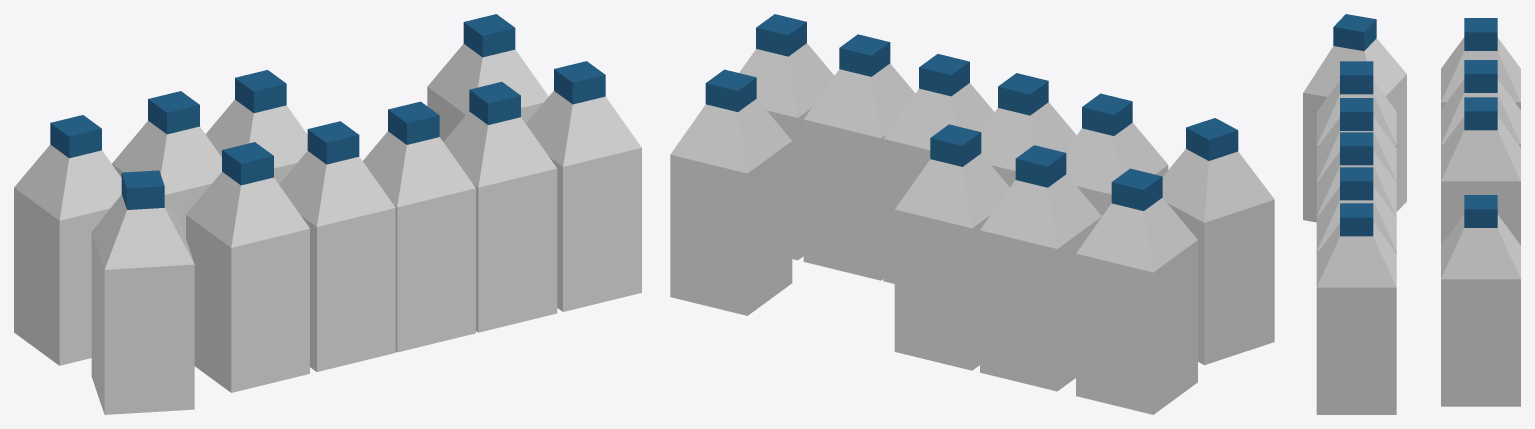
File: ShelfItem5.glb
The picture shows the model from 3 angles, left to right: view 1: azimuth 30°, elevation 25°; view 2: azimuth 150°, elevation 25°; view 3: azimuth 270°, elevation 25°; orthographic projection. The views are drawn at different scales.
Parts seen in each view (by area): view 1: SI_Prop_ShelfItem_05; view 2: SI_Prop_ShelfItem_05; view 3: SI_Prop_ShelfItem_05.
Boxes of the visible parts, x1,y1,x2,y2 form: SI_Prop_ShelfItem_05: (14, 14, 641, 414); SI_Prop_ShelfItem_05: (670, 14, 1274, 414); SI_Prop_ShelfItem_05: (1303, 14, 1520, 414).
Size of the model in its own units: 0.0193 by 0.00745 by 0.00783.
1 material, 1 textured.
